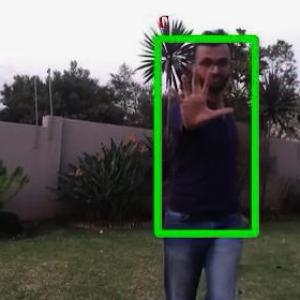follow_hand: (164, 53, 238, 133)
